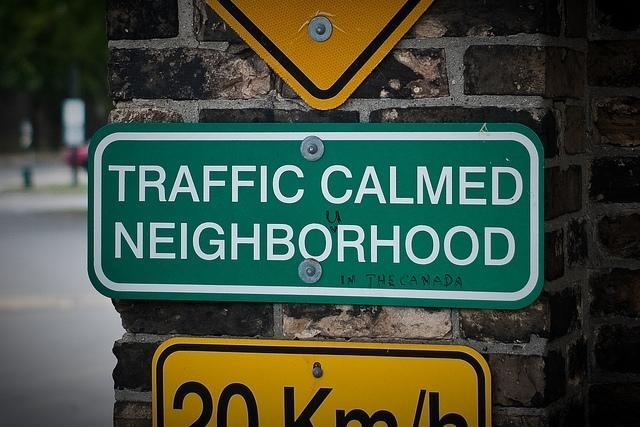car: (61, 142, 88, 168)
